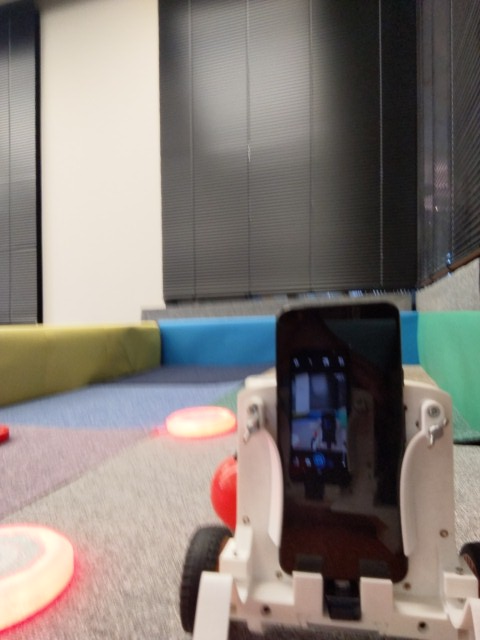f: (177, 298, 480, 640)
r: (1, 523, 73, 630), (166, 405, 237, 437)
